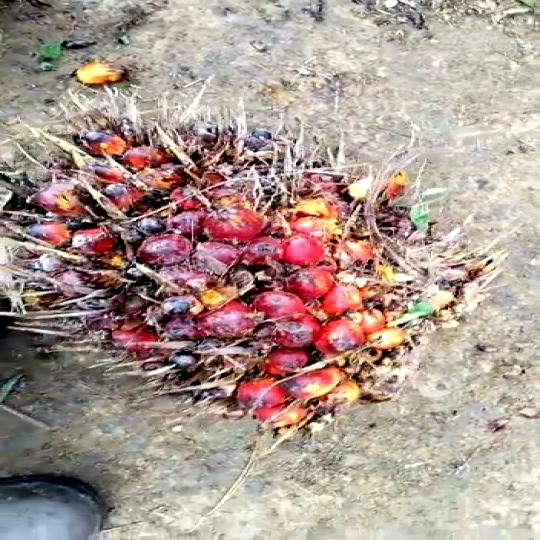masak: (0, 117, 477, 447)
